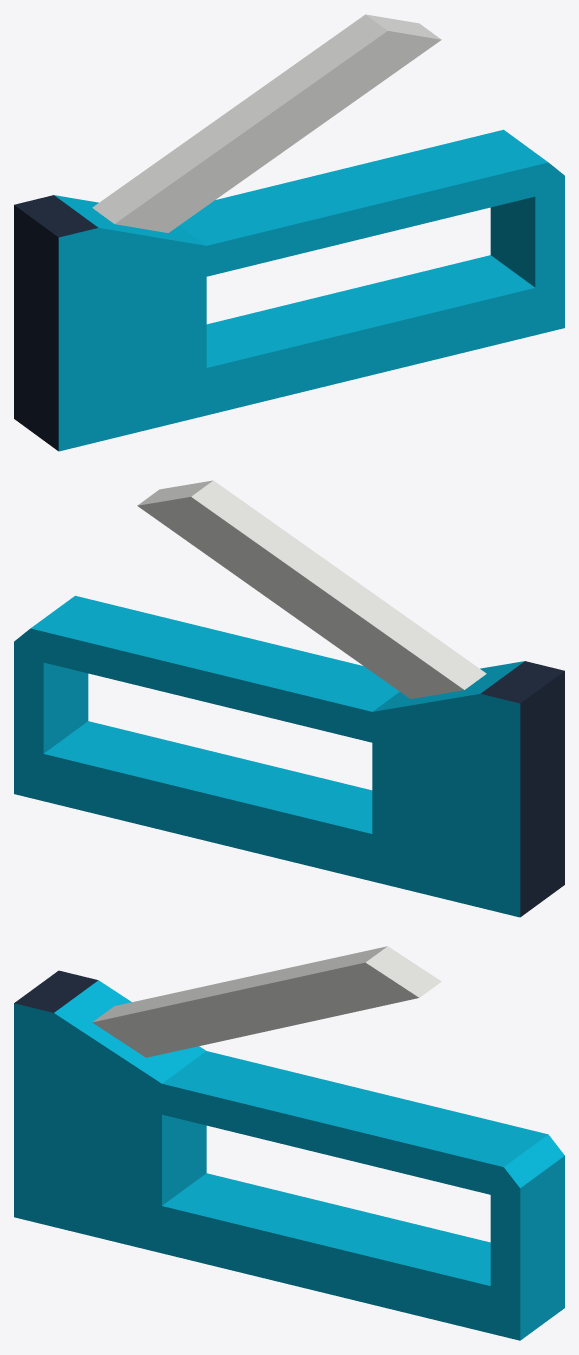
File: stablerGun.fbx
The picture shows the model from 3 angles, top to bottom: view 1: azimuth 30°, elevation 25°; view 2: azimuth 150°, elevation 25°; view 3: azimuth 330°, elevation 25°; orthographic projection.
Visible parts, largest first — view 1: Cube; view 2: Cube; view 3: Cube.
Part boxes in pixels (x1,y1,x2,y2): Cube: [14, 14, 564, 451]; Cube: [14, 480, 564, 917]; Cube: [14, 946, 564, 1340].
Size of the model in its own units: 354 by 220 by 54.21.
